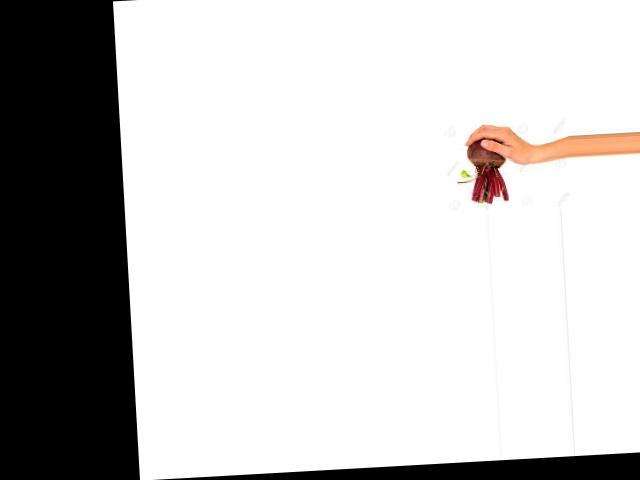beet: (454, 136, 507, 205)
